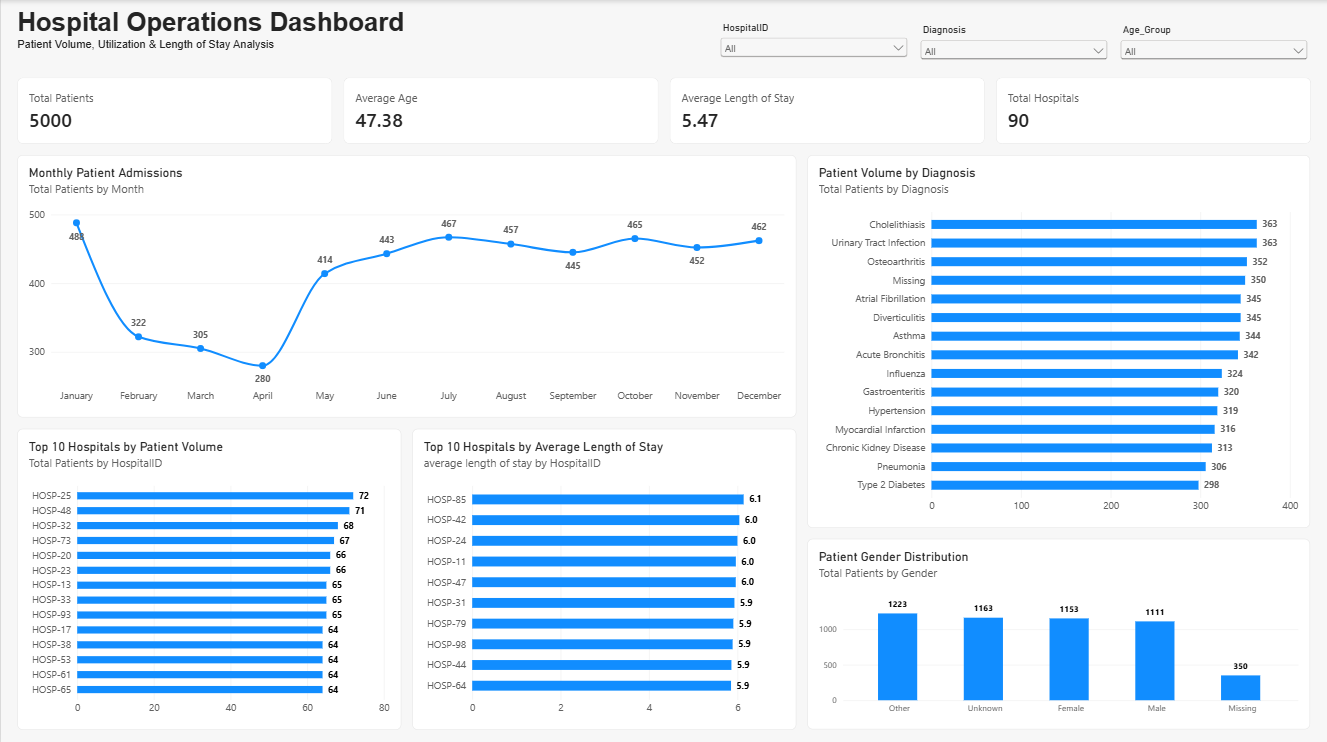

The page's visual inventory and layout, read from the dashboard file:
{"tool":"powerbi","page":{"name":"Page 1","canvas":[1920,1080],"ordinal":0},"visuals":[{"type":"cardVisual","fields":{"Data":["hospital_patients_clean.Total Patients"]},"box":[24,112,456,96],"z":0},{"type":"cardVisual","fields":{"Data":["hospital_patients_clean.Average Age"]},"box":[496,112,456,96],"z":1000},{"type":"cardVisual","fields":{"Data":["hospital_patients_clean.average length of stay"]},"box":[968,112,456,96],"z":2000},{"type":"cardVisual","fields":{"Data":["hospital_patients_clean.Total Hospitals"]},"box":[1440,112,456,96],"z":3000},{"type":"lineChart","title":"Monthly Patient Admissions","fields":{"Category":["hospital_patients_clean.AdmissionDate.Variation.Date Hierarchy.Month"],"Y":["hospital_patients_clean.Total Patients"]},"box":[24,224,1128,380],"z":4000},{"type":"clusteredBarChart","title":"Patient Volume by Diagnosis","fields":{"Category":["hospital_patients_clean.Diagnosis"],"Y":["hospital_patients_clean.Total Patients"]},"box":[1168,224,728,540],"z":5000},{"type":"clusteredBarChart","title":"Top 10 Hospitals by Patient Volume","fields":{"Category":["hospital_patients_clean.HospitalID"],"Y":["hospital_patients_clean.Total Patients"]},"box":[24,620,556,436],"z":6000},{"type":"clusteredBarChart","title":"Top 10 Hospitals by Average Length of Stay","fields":{"Category":["hospital_patients_clean.HospitalID"],"Y":["hospital_patients_clean.average length of stay"]},"box":[596,620,556,436],"z":7000},{"type":"clusteredColumnChart","title":"Patient Gender Distribution","fields":{"Category":["hospital_patients_clean.Gender"],"Y":["hospital_patients_clean.Total Patients"]},"box":[1168,780,728,276],"z":8000},{"type":"slicer","fields":{"Values":["hospital_patients_clean.HospitalID"]},"box":[1037.4,30.9,280,65],"z":9000},{"type":"slicer","fields":{"Values":["hospital_patients_clean.Diagnosis"]},"box":[1326.7,35,280,65],"z":10000},{"type":"slicer","fields":{"Values":["hospital_patients_clean.Age_Group"]},"box":[1616,34,280,65],"z":11000},{"type":"textbox","box":[24,10,960,81.4],"z":12000}]}

Visuals, with their boxes in screenshot pixels (x1, y1, x2, y2), scaled from the page's 1920x1080 canvas onto the 1327x742 screenshot:
cardVisual - hospital_patients_clean.Total Patients: 17/77/332/143
cardVisual - hospital_patients_clean.Average Age: 343/77/658/143
cardVisual - hospital_patients_clean.average length of stay: 669/77/984/143
cardVisual - hospital_patients_clean.Total Hospitals: 995/77/1310/143
"Monthly Patient Admissions" lineChart: 17/154/796/415
"Patient Volume by Diagnosis" clusteredBarChart: 807/154/1310/525
"Top 10 Hospitals by Patient Volume" clusteredBarChart: 17/426/401/726
"Top 10 Hospitals by Average Length of Stay" clusteredBarChart: 412/426/796/726
"Patient Gender Distribution" clusteredColumnChart: 807/536/1310/726
slicer - hospital_patients_clean.HospitalID: 717/21/911/66
slicer - hospital_patients_clean.Diagnosis: 917/24/1110/69
slicer - hospital_patients_clean.Age_Group: 1117/23/1310/68
textbox: 17/7/680/63
